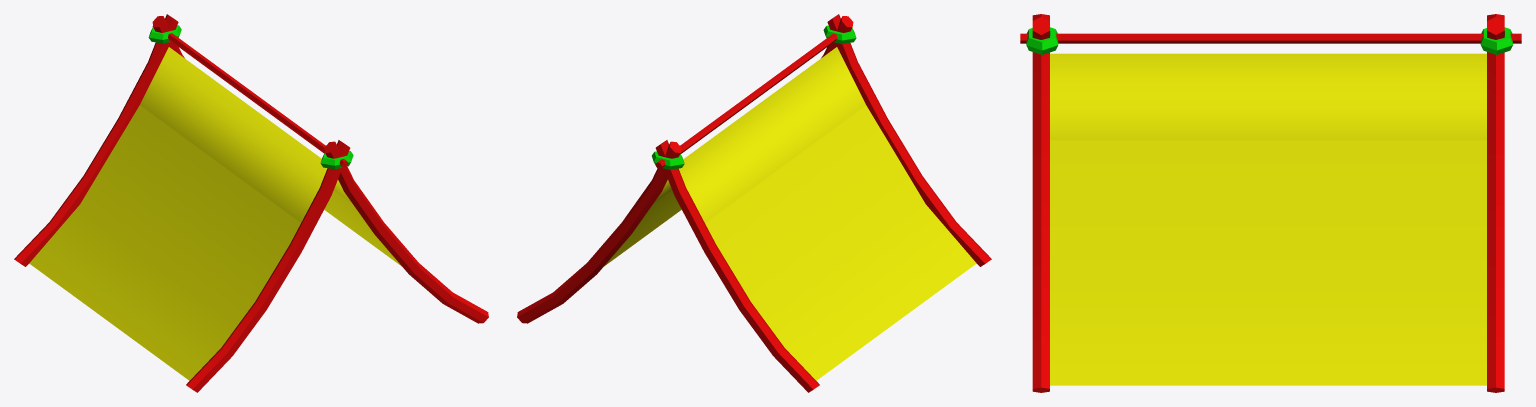
The model's file is outpost_tent_01.fbx.
3 renders of one model, left to right at view 1: azimuth 30°, elevation 25°; view 2: azimuth 150°, elevation 25°; view 3: azimuth 270°, elevation 25°, orthographic. The views are drawn at different scales.
Parts seen in each view (by area): view 1: tent_01; view 2: tent_01; view 3: tent_01.
Part boxes in pixels (x1=…): tent_01: x1=14, y1=14, x2=488, y2=392; tent_01: x1=517, y1=14, x2=991, y2=392; tent_01: x1=1020, y1=14, x2=1521, y2=392.
Size of the model in its own units: 8.26 by 5.67 by 8.99.
